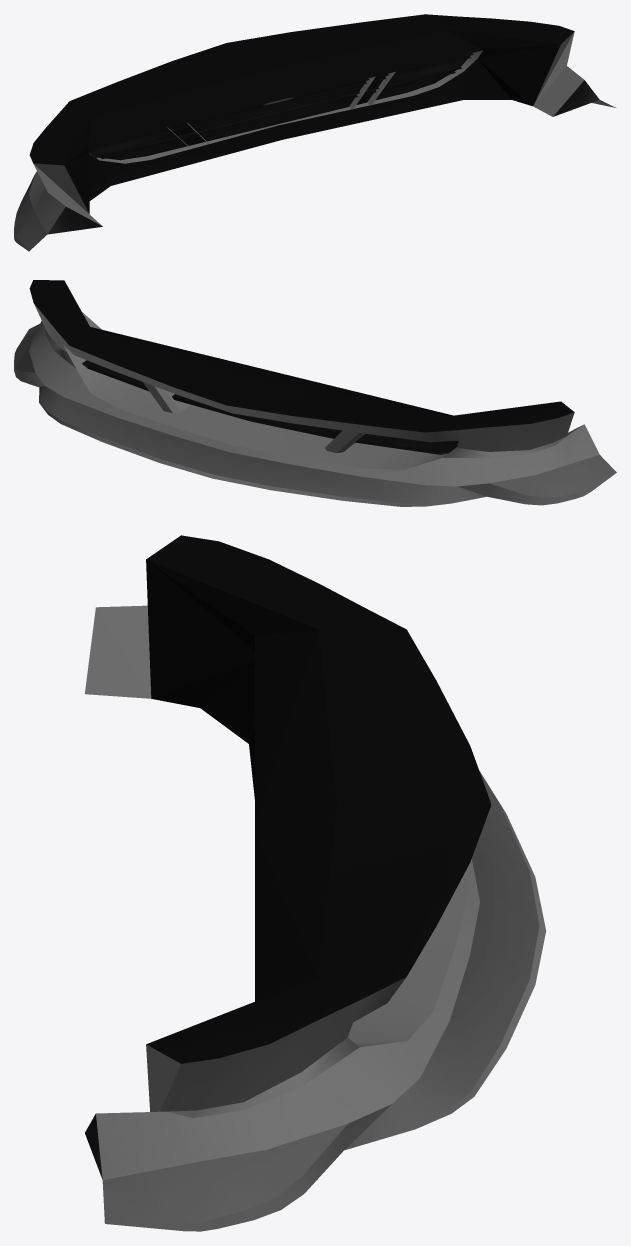
Rendered from Muscle_1_Bumper_Front_3.fbx.
3 views of the same model, one above another, from view 1: azimuth 30°, elevation 25°; view 2: azimuth 150°, elevation 25°; view 3: azimuth 270°, elevation 25° (orthographic). The views are drawn at different scales.
Parts seen in each view (by area): view 1: Muscle_1_Bumper_Front_3; view 2: Muscle_1_Bumper_Front_3; view 3: Muscle_1_Bumper_Front_3.
Part boxes in pixels (x1,y1,x2,y2): Muscle_1_Bumper_Front_3: [14, 14, 615, 251]; Muscle_1_Bumper_Front_3: [14, 280, 616, 506]; Muscle_1_Bumper_Front_3: [85, 535, 545, 1231].
Size of the model in its own units: 155 by 19.53 by 52.56.
